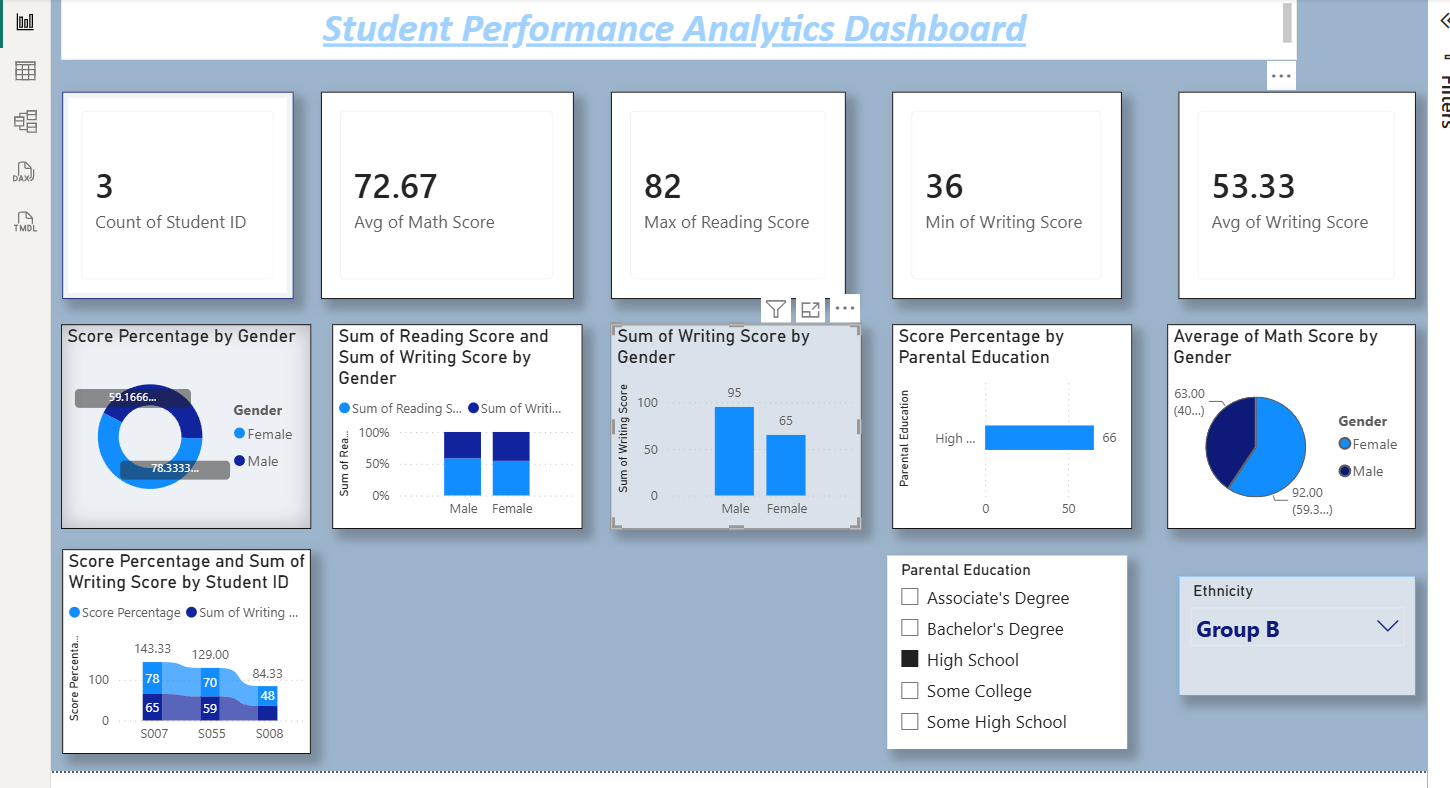

This screenshot's page, from the dashboard's own definition file:
{"tool":"powerbi","page":{"name":"Page 1","canvas":[1280,720],"ordinal":0},"visuals":[{"type":"textbox","box":[9.6,0,1149.9,57.6],"z":0},{"type":"cardVisual","fields":{"Data":["CountNonNull(Student Performance.Student ID)"]},"box":[10.5,87.2,215.1,193],"z":1000},{"type":"cardVisual","fields":{"Data":["Avg(Student Performance.Math Score)"]},"box":[251.2,87.2,234.9,193],"z":2000},{"type":"cardVisual","fields":{"Data":["Max(Student Performance.Reading Score)"]},"box":[520.9,87.2,218.6,193],"z":3000},{"type":"cardVisual","fields":{"Data":["Min(Student Performance.Writing Score)"]},"box":[782.6,87.2,214,193],"z":4000},{"type":"cardVisual","fields":{"Data":["Avg(Student Performance.Writing Score)"]},"box":[1048.8,87.2,220.9,193],"z":5000},{"type":"slicer","fields":{"Values":["Student Performance.Ethnicity"]},"box":[1048.8,537.2,220.9,111.6],"z":6000},{"type":"donutChart","fields":{"Category":["Student Performance.Gender"],"Y":["Student Performance.Score Percentage"]},"box":[9.3,303.5,232.6,190.7],"z":7000},{"type":"columnChart","fields":{"Category":["Student Performance.Gender"],"Y":["Sum(Student Performance.Writing Score)"]},"box":[520.9,303.5,232.6,190.7],"z":8000},{"type":"clusteredBarChart","fields":{"Category":["Student Performance.Parental Education"],"Y":["Student Performance.Score Percentage"]},"box":[782.6,303.5,223.3,190.7],"z":9000},{"type":"pieChart","fields":{"Category":["Student Performance.Gender"],"Y":["Avg(Student Performance.Math Score)"]},"box":[1038.4,303.5,231.4,190.7],"z":10000},{"type":"ribbonChart","fields":{"Category":["Student Performance.Student ID"],"Y":["Student Performance.Score Percentage","Sum(Student Performance.Writing Score)"]},"box":[10.5,512.8,231.4,190.7],"z":11000},{"type":"hundredPercentStackedColumnChart","fields":{"Y":["Sum(Student Performance.Reading Score)","Sum(Student Performance.Writing Score)"],"Category":["Student Performance.Gender"]},"box":[261.6,303.5,232.6,190.7],"z":12000},{"type":"slicer","fields":{"Values":["Student Performance.Parental Education"]},"box":[777.9,518.6,223.3,180.2],"z":13000}]}

Visuals, with their boxes in screenshot pixels (x1, y1, x2, y2):
textbox: (56, 0, 1299, 55)
cardVisual - CountNonNull(Student Performance.Student ID): (57, 87, 289, 295)
cardVisual - Avg(Student Performance.Math Score): (317, 87, 571, 295)
cardVisual - Max(Student Performance.Reading Score): (608, 87, 845, 295)
cardVisual - Min(Student Performance.Writing Score): (891, 87, 1123, 295)
cardVisual - Avg(Student Performance.Writing Score): (1179, 87, 1418, 295)
slicer - Student Performance.Ethnicity: (1179, 573, 1418, 694)
donutChart - Student Performance.Gender x Student Performance.Score Percentage: (55, 321, 307, 527)
columnChart - Student Performance.Gender x Sum(Student Performance.Writing Score): (608, 321, 860, 527)
clusteredBarChart - Student Performance.Parental Education x Student Performance.Score Percentage: (891, 321, 1133, 527)
pieChart - Student Performance.Gender x Avg(Student Performance.Math Score): (1168, 321, 1418, 527)
ribbonChart - Student Performance.Student ID x Student Performance.Score Percentage: (57, 547, 307, 753)
hundredPercentStackedColumnChart - Sum(Student Performance.Reading Score) x Sum(Student Performance.Writing Score): (328, 321, 580, 527)
slicer - Student Performance.Parental Education: (886, 553, 1128, 748)
